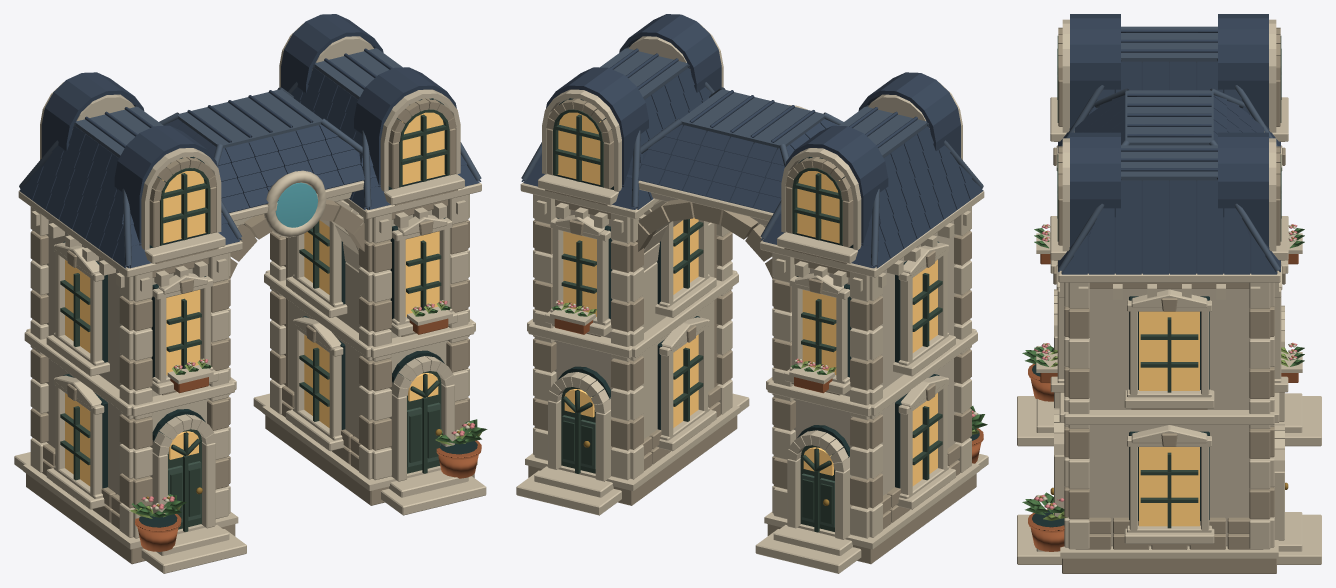
3 views of the same model, side by side, from view 1: azimuth 30°, elevation 25°; view 2: azimuth 150°, elevation 25°; view 3: azimuth 270°, elevation 25° (orthographic).
Parts seen in each view (by area): view 1: classic_teleport_gate_geometry; view 2: classic_teleport_gate_geometry; view 3: classic_teleport_gate_geometry.
Part boxes in pixels (<box>): classic_teleport_gate_geometry: <box>14,14,487,573</box>; classic_teleport_gate_geometry: <box>516,14,988,573</box>; classic_teleport_gate_geometry: <box>1017,14,1321,573</box>.
Size of the model in its own units: 1.04 by 1.11 by 0.7418.
